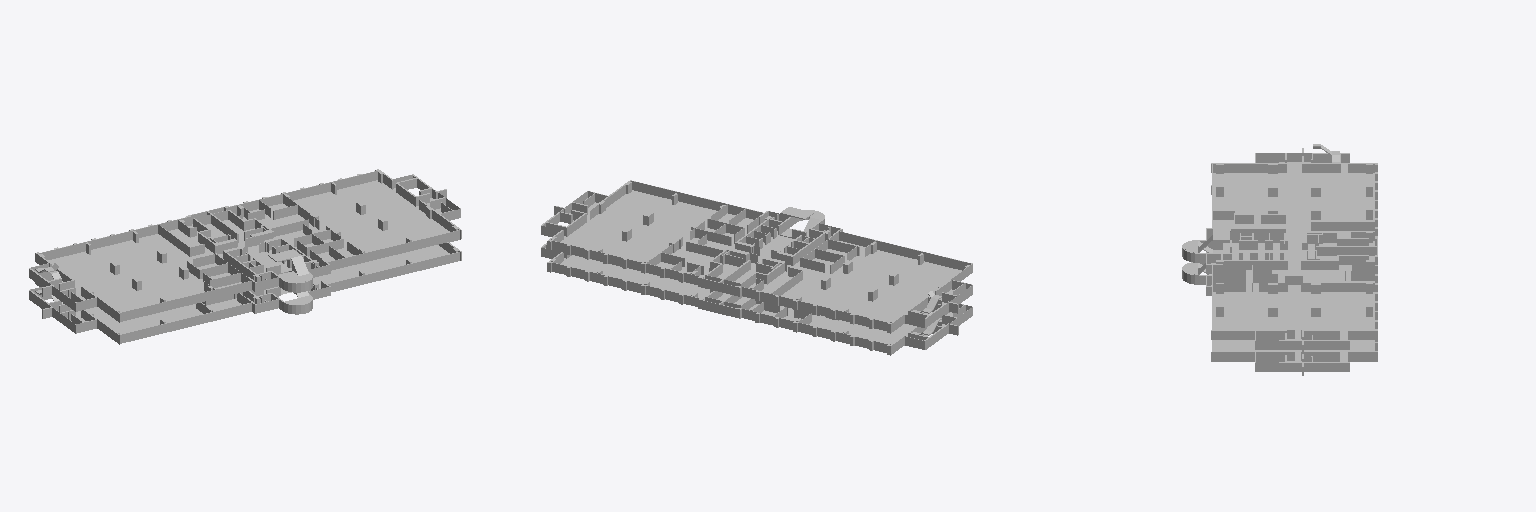
File: decimo_segundo_versao_01.obj
3 renders of one model, left to right at view 1: azimuth 30°, elevation 25°; view 2: azimuth 150°, elevation 25°; view 3: azimuth 270°, elevation 25°, orthographic.
Bounding box in the file's own units: 64.28 × 6.66 × 27.01.